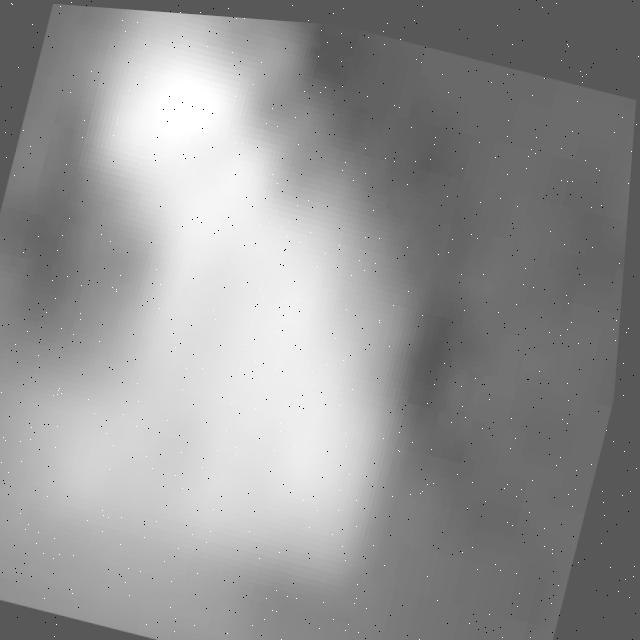person: (1, 1, 498, 640)
